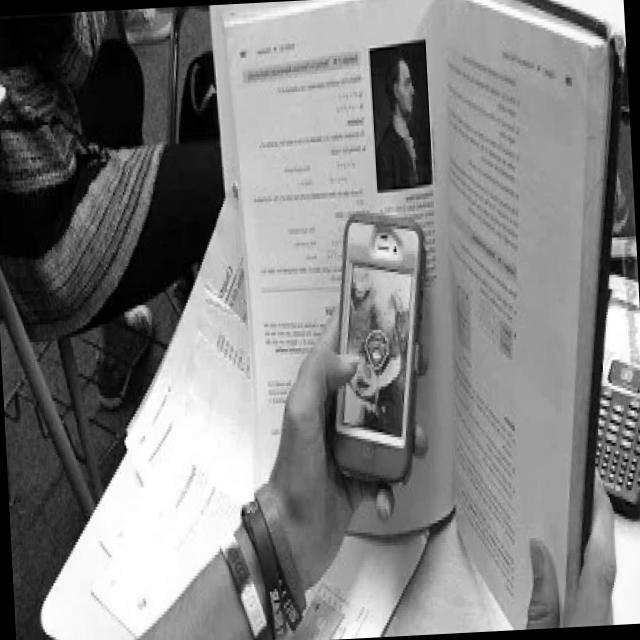phone: (319, 208, 439, 489), (583, 236, 640, 520)
